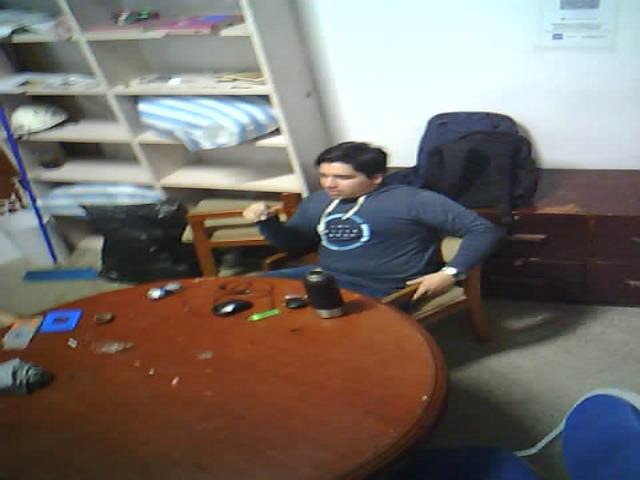person: (232, 105, 526, 326)
